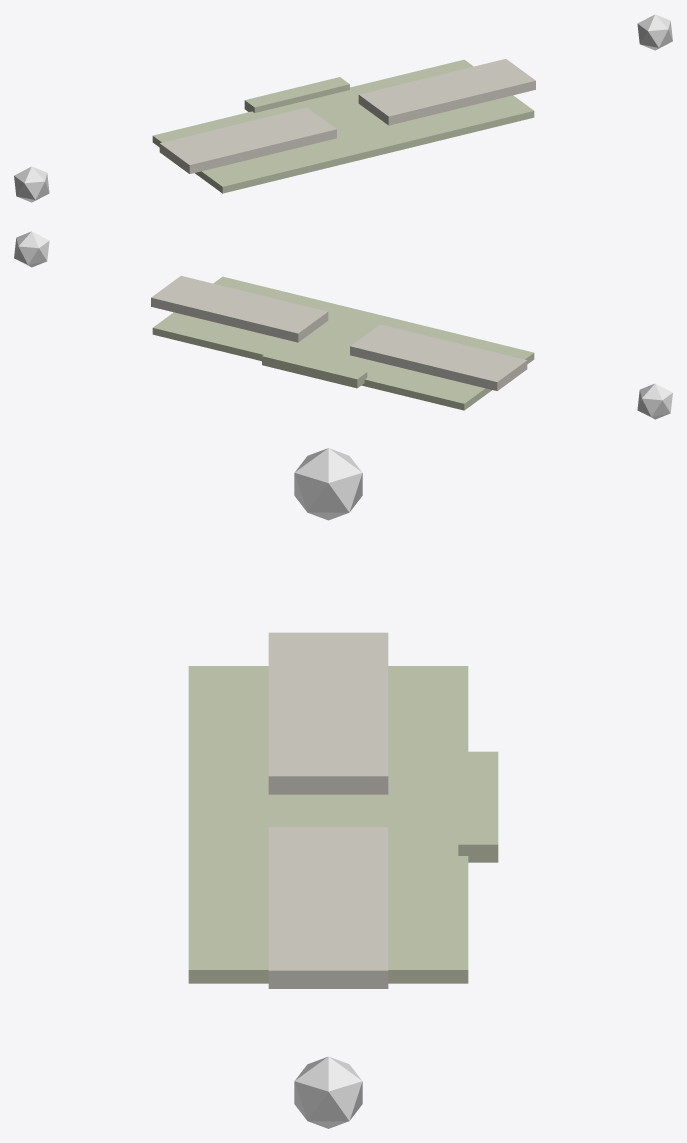
Rendered from COASTAL_GRAVEL_PATH_001_LOD_MAP.glb.
3 views of the same model, one above another, from view 1: azimuth 30°, elevation 25°; view 2: azimuth 150°, elevation 25°; view 3: azimuth 270°, elevation 25° (orthographic). The views are drawn at different scales.
Visible parts, largest first — view 1: COASTAL_GRAVEL_PATH_001_LOD_MAP_GROUND_SOCKET, COASTAL_GRAVEL_PATH_001_LOD_MAP_STRAIGHT_MAP_B, COASTAL_GRAVEL_PATH_001_LOD_MAP_STRAIGHT_MAP_A, COASTAL_GRAVEL_PATH_001_LOD_MAP_EDGE_LEFT_A, COASTAL_GRAVEL_PATH_001_LOD_MAP_SNAP_IN, COASTAL_GRAVEL_PATH_001_LOD_MAP_SNAP_OUT; view 2: COASTAL_GRAVEL_PATH_001_LOD_MAP_GROUND_SOCKET, COASTAL_GRAVEL_PATH_001_LOD_MAP_STRAIGHT_MAP_B, COASTAL_GRAVEL_PATH_001_LOD_MAP_STRAIGHT_MAP_A, COASTAL_GRAVEL_PATH_001_LOD_MAP_EDGE_LEFT_A, COASTAL_GRAVEL_PATH_001_LOD_MAP_SNAP_IN, COASTAL_GRAVEL_PATH_001_LOD_MAP_SNAP_OUT; view 3: COASTAL_GRAVEL_PATH_001_LOD_MAP_GROUND_SOCKET, COASTAL_GRAVEL_PATH_001_LOD_MAP_STRAIGHT_MAP_A, COASTAL_GRAVEL_PATH_001_LOD_MAP_STRAIGHT_MAP_B, COASTAL_GRAVEL_PATH_001_LOD_MAP_EDGE_LEFT_A, COASTAL_GRAVEL_PATH_001_LOD_MAP_SNAP_IN, COASTAL_GRAVEL_PATH_001_LOD_MAP_SNAP_OUT.
Boxes of the visible parts, box(x1,y1,x2,y2) form: COASTAL_GRAVEL_PATH_001_LOD_MAP_GROUND_SOCKET: box(152, 59, 534, 193); COASTAL_GRAVEL_PATH_001_LOD_MAP_STRAIGHT_MAP_B: box(358, 59, 535, 125); COASTAL_GRAVEL_PATH_001_LOD_MAP_STRAIGHT_MAP_A: box(159, 107, 336, 173); COASTAL_GRAVEL_PATH_001_LOD_MAP_EDGE_LEFT_A: box(244, 77, 349, 112); COASTAL_GRAVEL_PATH_001_LOD_MAP_SNAP_IN: box(14, 166, 49, 202); COASTAL_GRAVEL_PATH_001_LOD_MAP_SNAP_OUT: box(637, 14, 672, 50); COASTAL_GRAVEL_PATH_001_LOD_MAP_GROUND_SOCKET: box(152, 276, 534, 410); COASTAL_GRAVEL_PATH_001_LOD_MAP_STRAIGHT_MAP_B: box(151, 276, 328, 342); COASTAL_GRAVEL_PATH_001_LOD_MAP_STRAIGHT_MAP_A: box(350, 324, 527, 390); COASTAL_GRAVEL_PATH_001_LOD_MAP_EDGE_LEFT_A: box(262, 349, 367, 388); COASTAL_GRAVEL_PATH_001_LOD_MAP_SNAP_IN: box(637, 383, 672, 419); COASTAL_GRAVEL_PATH_001_LOD_MAP_SNAP_OUT: box(14, 231, 49, 267); COASTAL_GRAVEL_PATH_001_LOD_MAP_GROUND_SOCKET: box(188, 666, 468, 983); COASTAL_GRAVEL_PATH_001_LOD_MAP_STRAIGHT_MAP_A: box(268, 632, 388, 794); COASTAL_GRAVEL_PATH_001_LOD_MAP_STRAIGHT_MAP_B: box(268, 827, 388, 988); COASTAL_GRAVEL_PATH_001_LOD_MAP_EDGE_LEFT_A: box(458, 751, 498, 862); COASTAL_GRAVEL_PATH_001_LOD_MAP_SNAP_IN: box(294, 448, 362, 520); COASTAL_GRAVEL_PATH_001_LOD_MAP_SNAP_OUT: box(294, 1056, 362, 1128).
Size of the model in its own units: 1.51 by 0.1 by 0.31.
